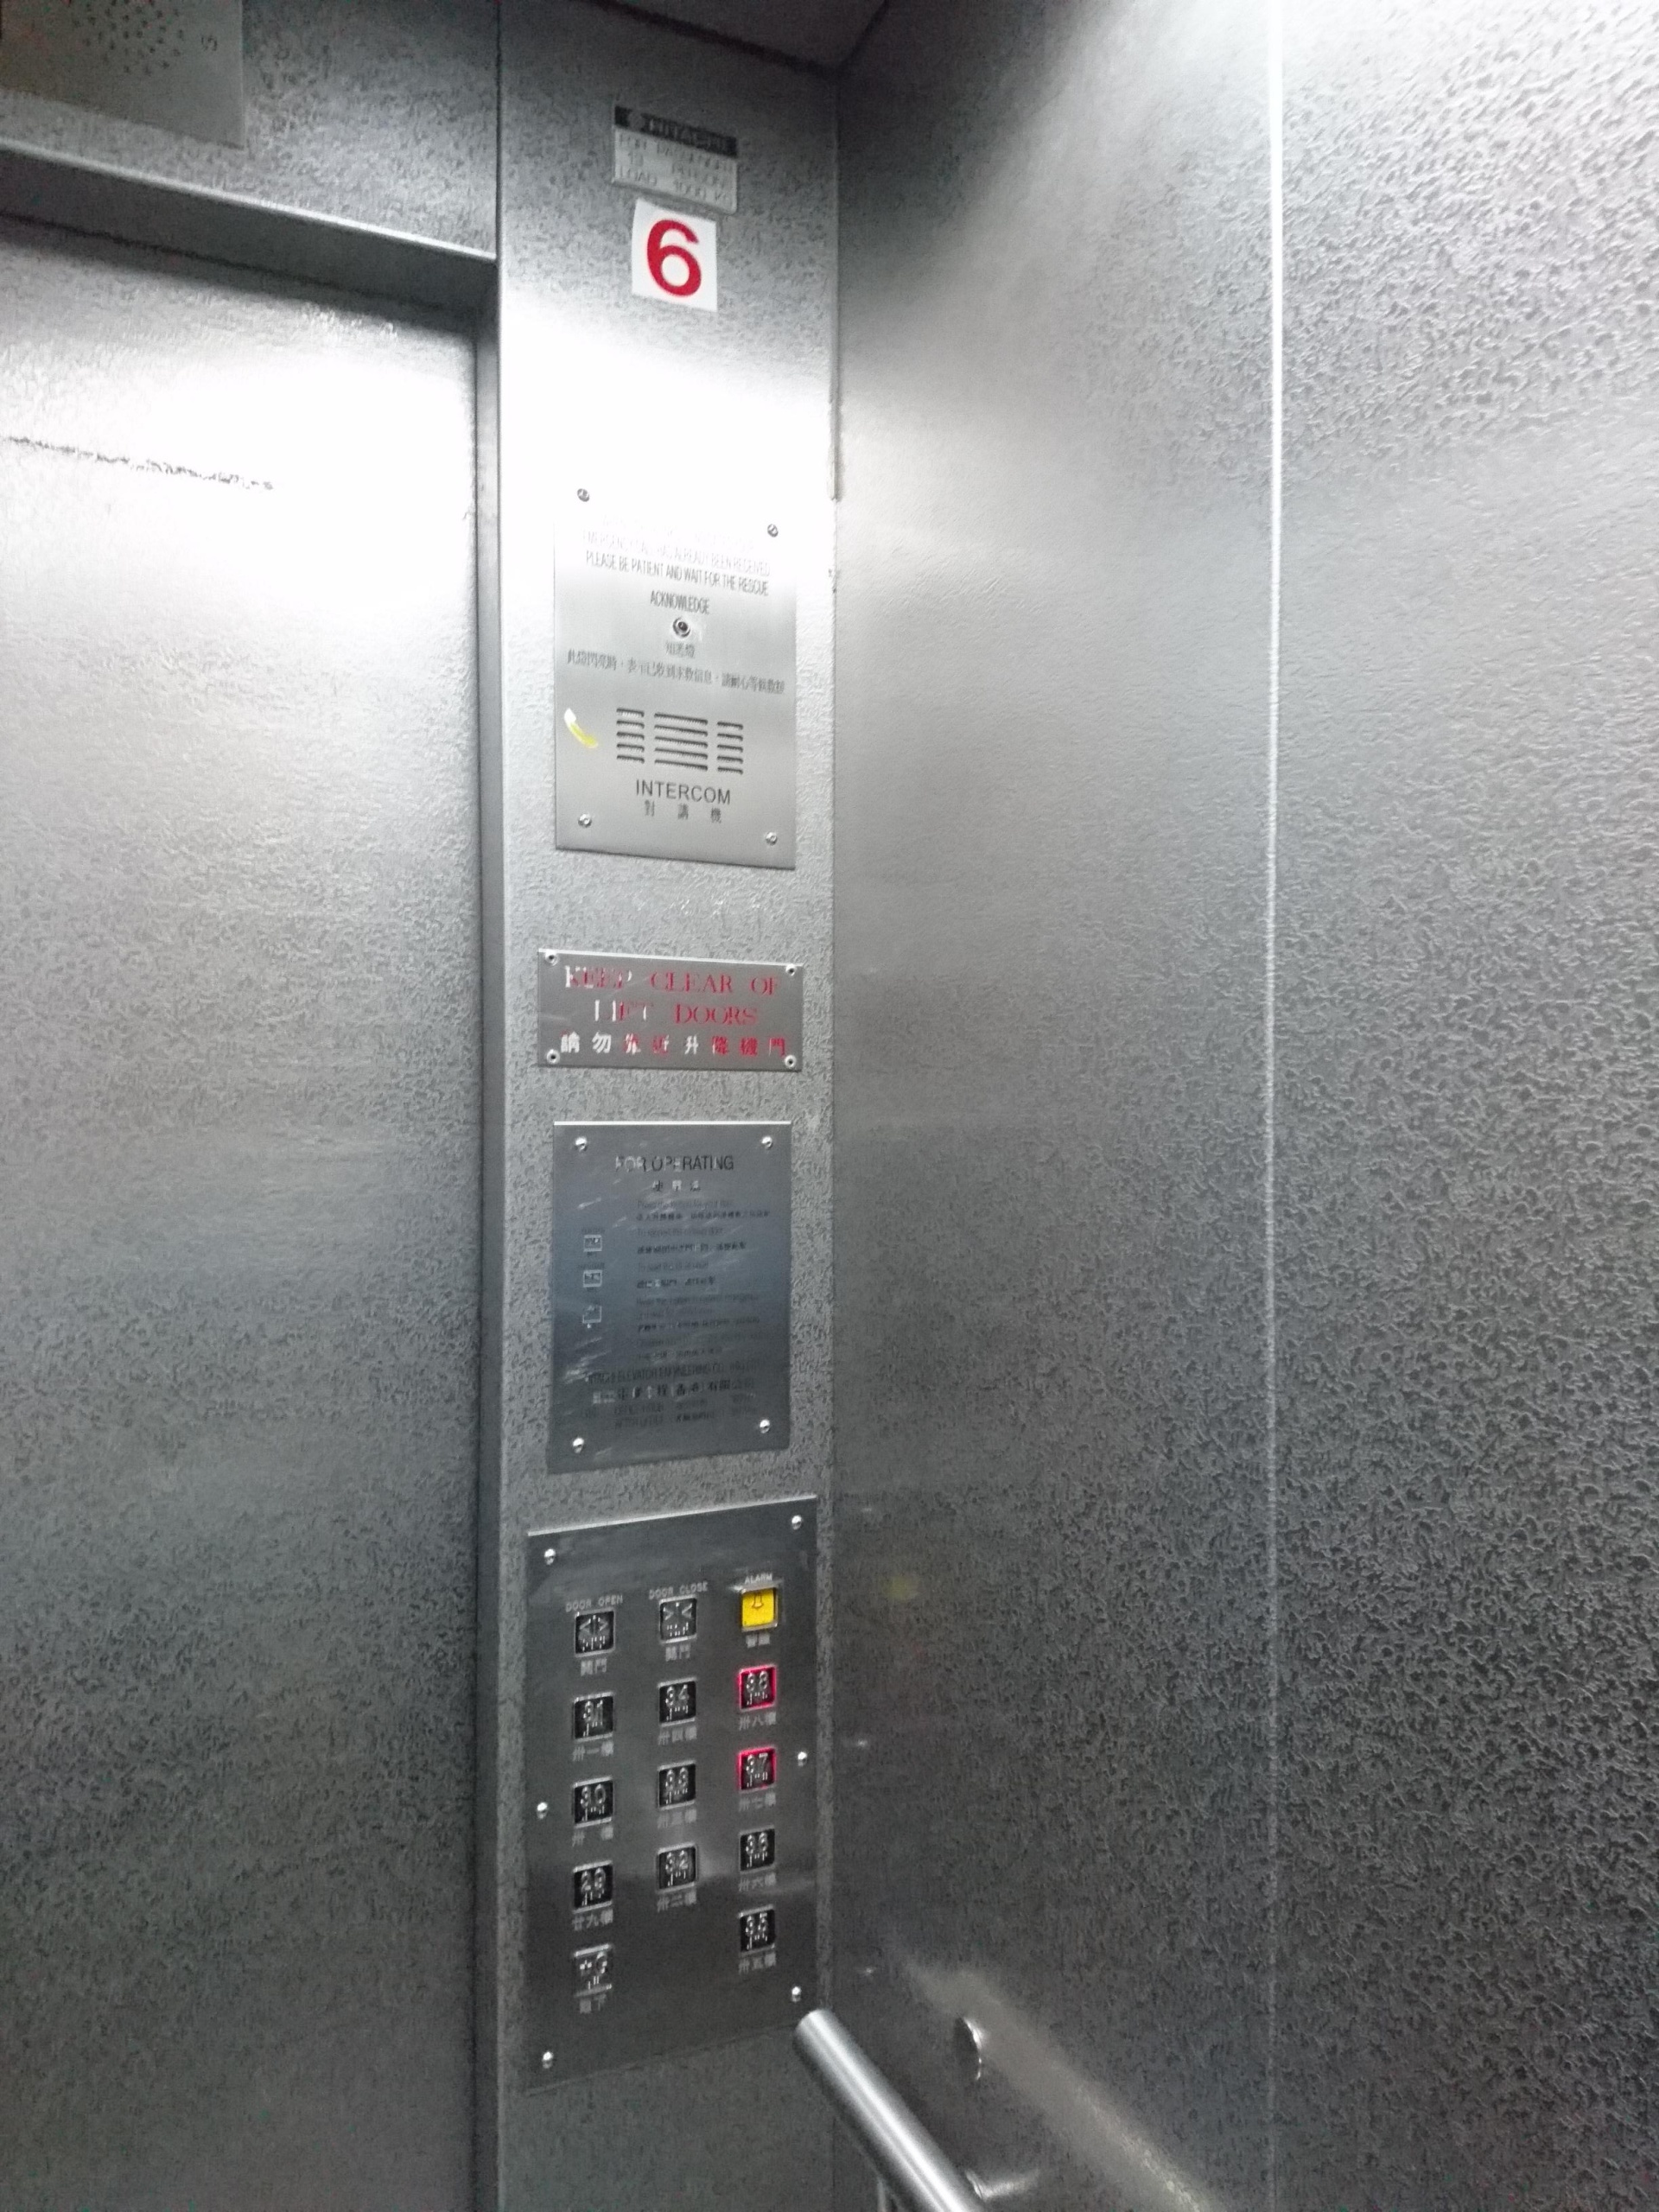29: (566, 1858, 617, 1918)
30: (568, 1773, 619, 1834)
31: (570, 1688, 617, 1745)
32: (652, 1839, 699, 1895)
33: (653, 1757, 701, 1813)
34: (653, 1676, 701, 1730)
35: (734, 1902, 777, 1961)
36: (734, 1824, 779, 1878)
37: (734, 1742, 781, 1797)
38: (734, 1662, 781, 1716)
alarm: (735, 1581, 779, 1635)
close: (655, 1592, 701, 1649)
open: (572, 1606, 619, 1660)
sG: (570, 1939, 619, 2001)
